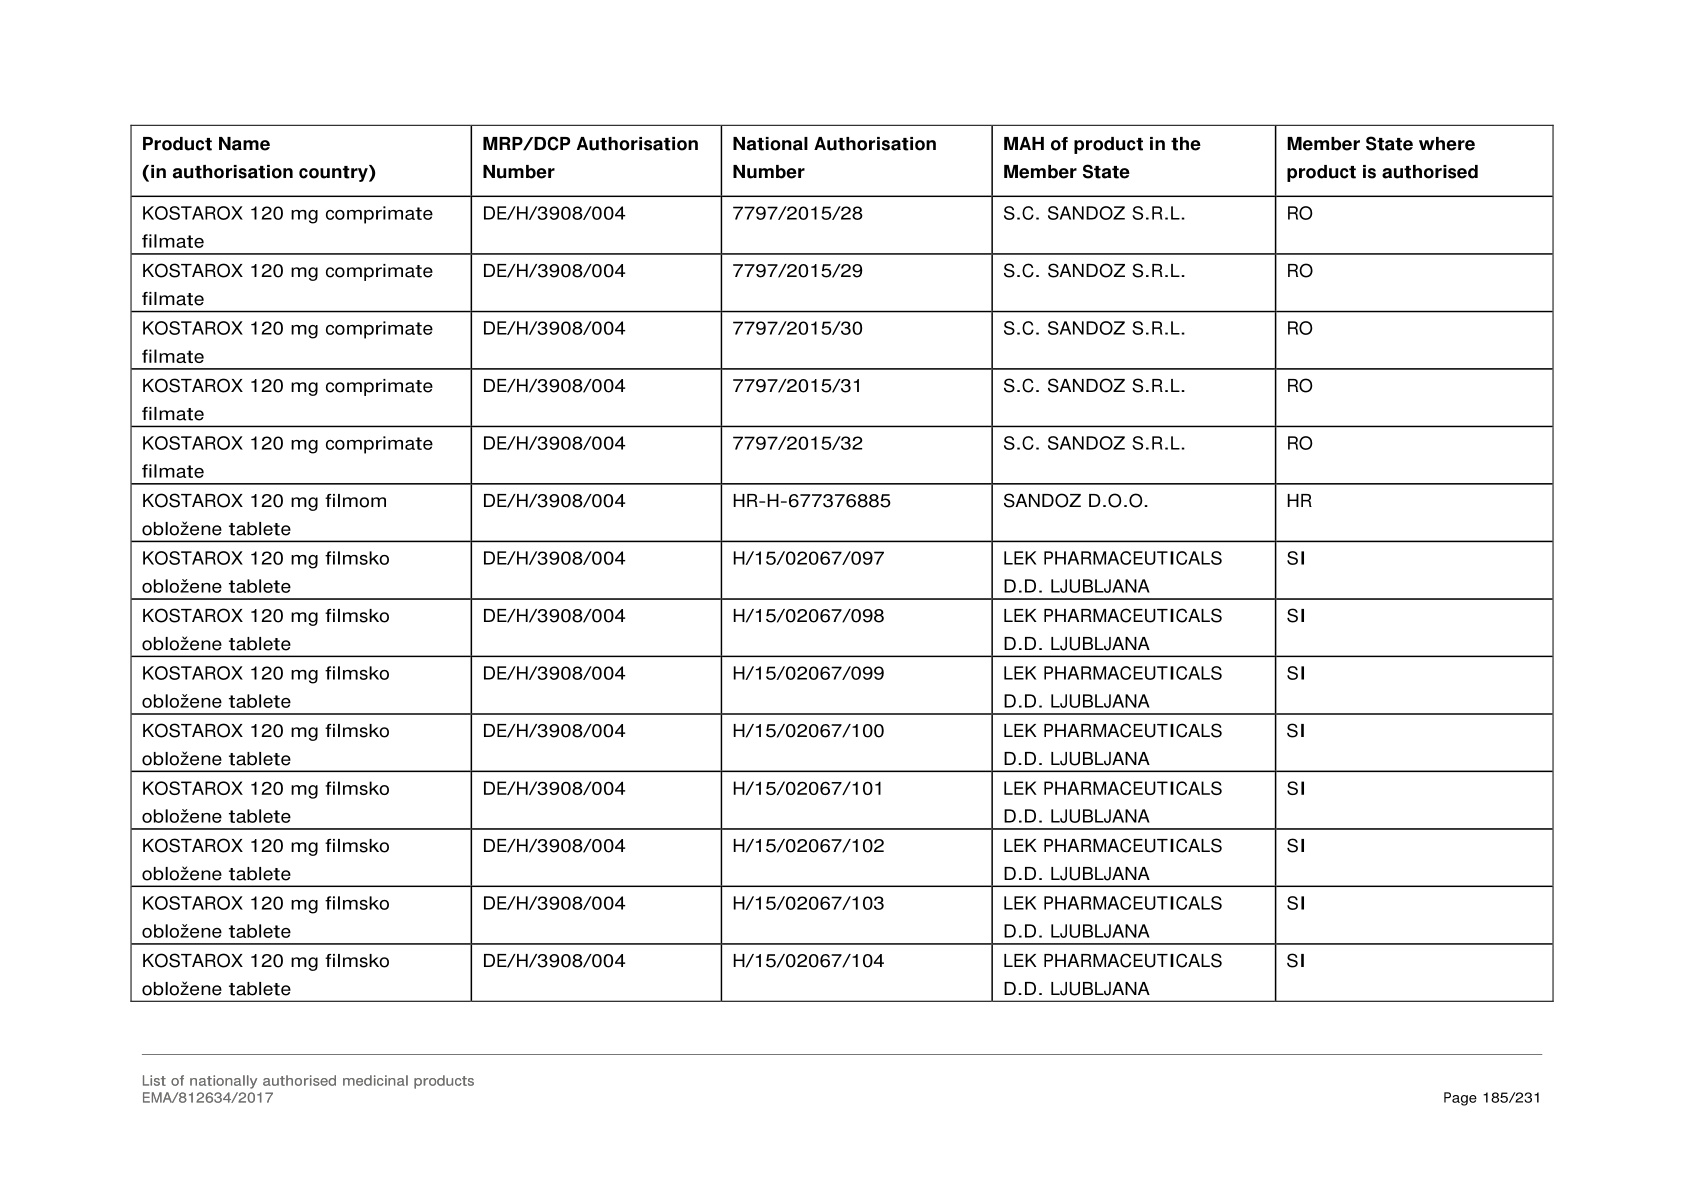full_lined: (129, 124, 1554, 1002)
